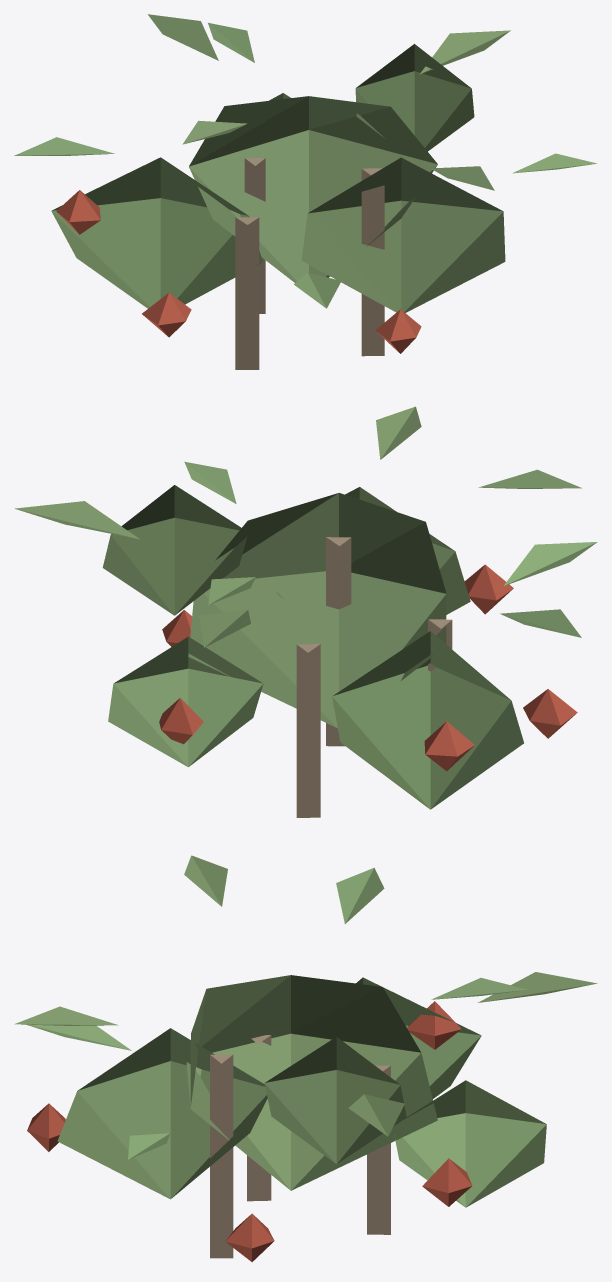
File: guan.dujuan@fruiting__bloom.glb
The picture shows the model from 3 angles, top to bottom: view 1: azimuth 30°, elevation 25°; view 2: azimuth 150°, elevation 25°; view 3: azimuth 270°, elevation 25°; orthographic projection. The views are drawn at different scales.
Visible parts, largest first — view 1: guan.dujuan@fruiting__bloom; view 2: guan.dujuan@fruiting__bloom; view 3: guan.dujuan@fruiting__bloom.
Boxes of the visible parts, <box> form: guan.dujuan@fruiting__bloom: <box>14,14,596,369</box>; guan.dujuan@fruiting__bloom: <box>15,406,597,817</box>; guan.dujuan@fruiting__bloom: <box>14,855,597,1261</box>.
Bounding box in the file's own units: 2.66 × 1.4 × 2.46.
